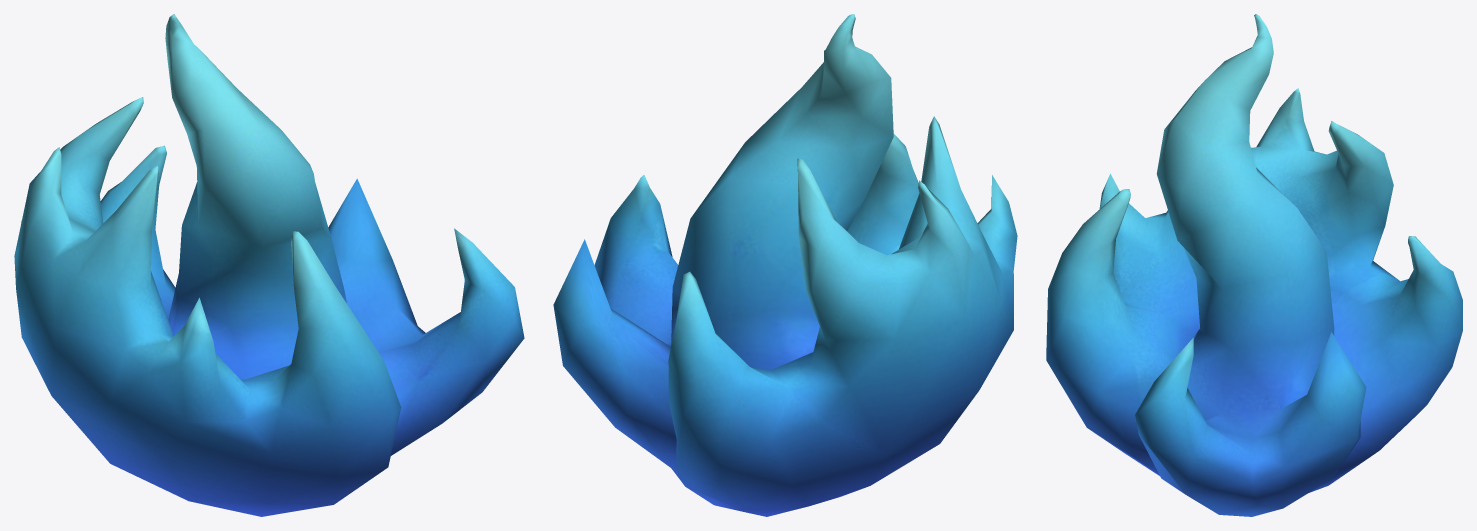
The model's file is eternal_flame_2.glb.
3 views of the same model, side by side, from view 1: azimuth 30°, elevation 25°; view 2: azimuth 150°, elevation 25°; view 3: azimuth 270°, elevation 25° (orthographic). The views are drawn at different scales.
Parts seen in each view (by area): view 1: tripo_node_35ca98d5-96d7-4242-9060-e2638feef4ba; view 2: tripo_node_35ca98d5-96d7-4242-9060-e2638feef4ba; view 3: tripo_node_35ca98d5-96d7-4242-9060-e2638feef4ba.
Boxes of the visible parts, x1=… form: tripo_node_35ca98d5-96d7-4242-9060-e2638feef4ba: x1=14, y1=14, x2=524, y2=516; tripo_node_35ca98d5-96d7-4242-9060-e2638feef4ba: x1=553, y1=14, x2=1017, y2=516; tripo_node_35ca98d5-96d7-4242-9060-e2638feef4ba: x1=1046, y1=14, x2=1462, y2=516.
Size of the model in its own units: 0.9082 by 0.998 by 0.8613.
1 material, 1 textured.
